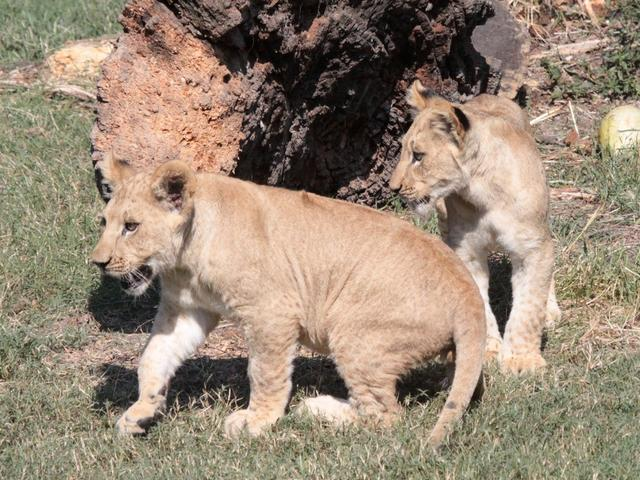lion: (85, 129, 484, 470), (387, 60, 588, 370)
